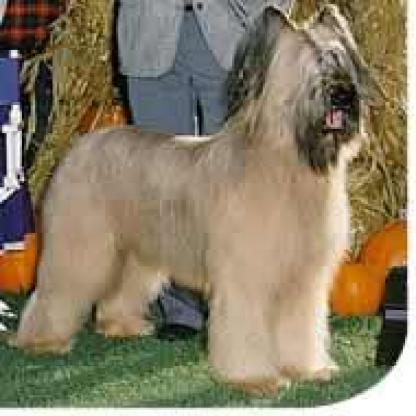briard: (17, 4, 364, 383)
